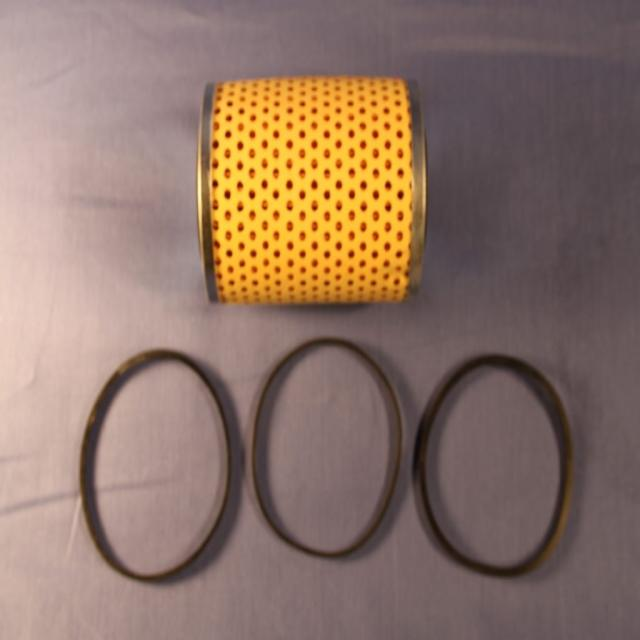oil_filter: (191, 63, 432, 306)
